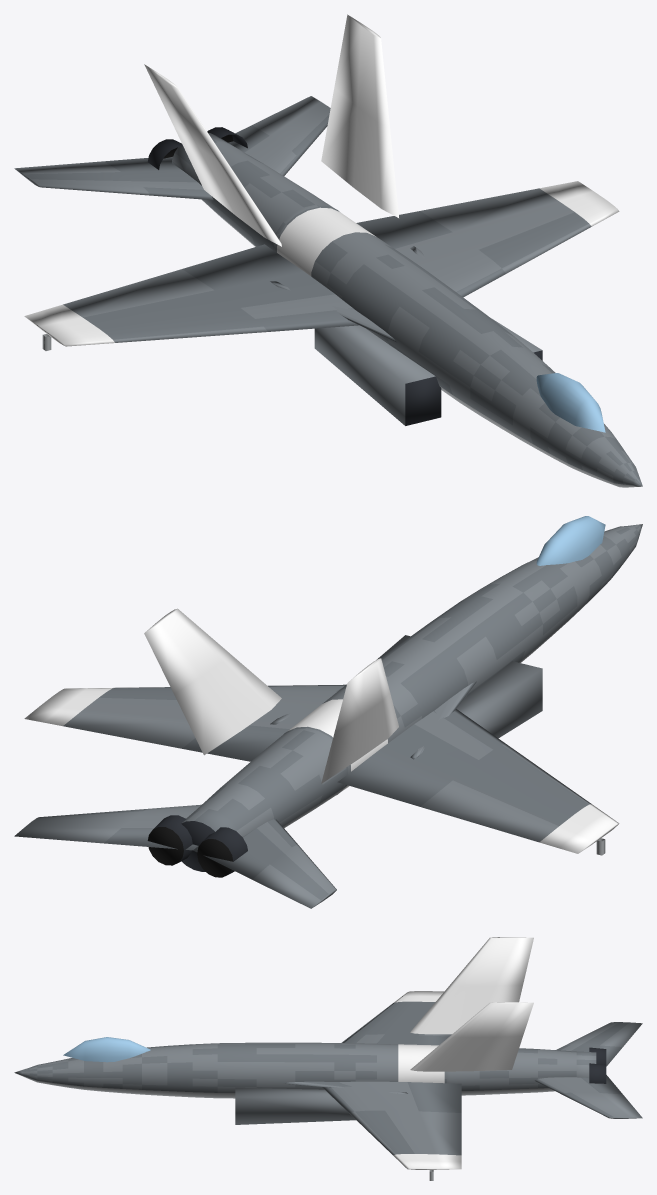
3 views of the same model, one above another, from view 1: azimuth 30°, elevation 25°; view 2: azimuth 150°, elevation 25°; view 3: azimuth 270°, elevation 25° (orthographic). The views are drawn at different scales.
Visible parts, largest first — view 1: body; view 2: body; view 3: body.
Boxes of the visible parts, left/top/right/bottom form: body: left=14, top=14, right=642, bottom=487; body: left=14, top=516, right=642, bottom=908; body: left=14, top=937, right=642, bottom=1180.
Bounding box in the file's own units: 12.42 × 4.31 × 18.48.
